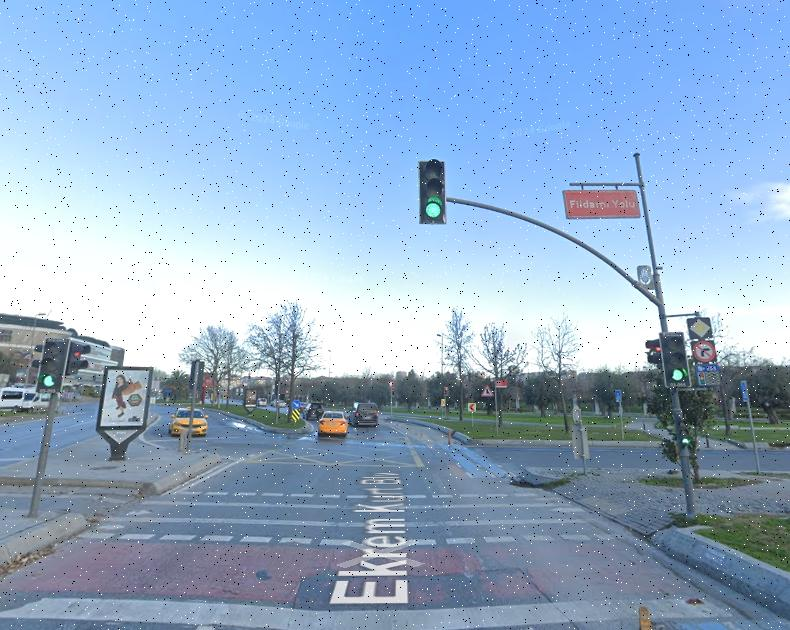greenlight: (419, 157, 445, 223), (659, 333, 687, 385), (37, 340, 63, 391)
rightturnsareforbidden: (694, 341, 715, 363)
